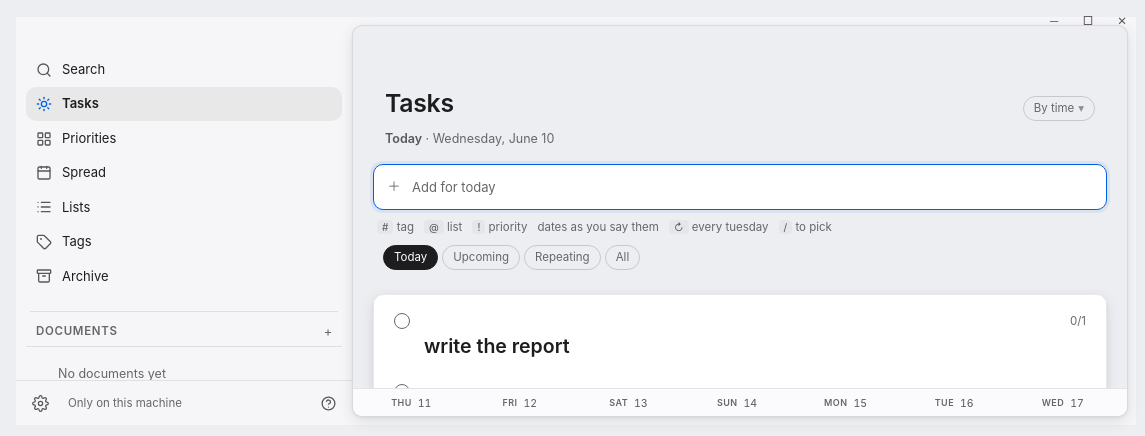
Test: a refusal › reaches the window instead of failing silently
Expected: the heading "write the report" is shown, x1=424 y1=334 x2=570 y2=358
Click the button named "Complete write the report" at (402, 321), box x1=394 y1=313 x2=410 y2=329
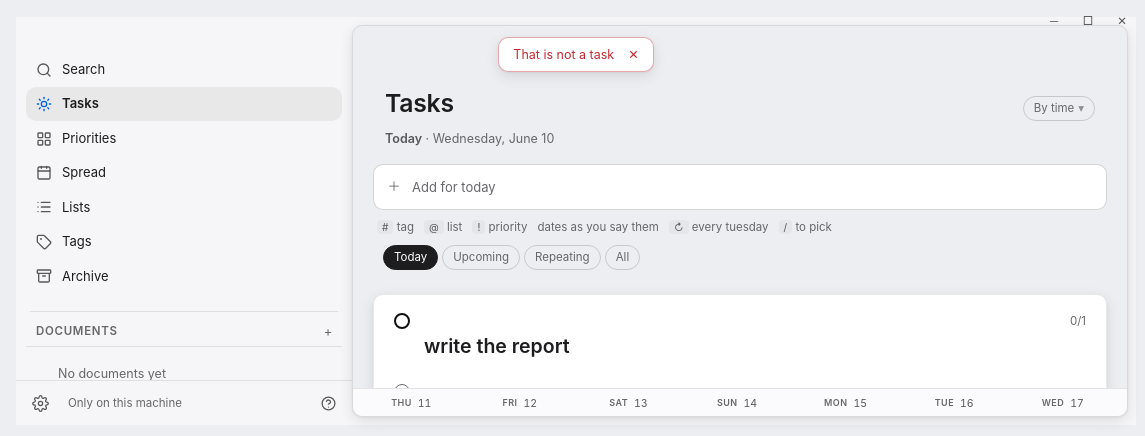
Result: the text "That is not a task" is shown at x1=513 y1=46 x2=614 y2=63
